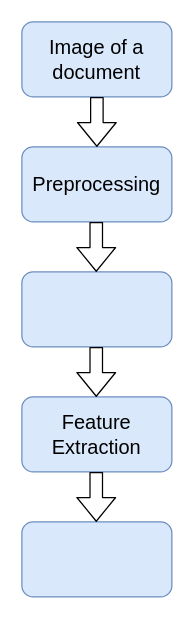
Image size: 194x619. Some labels were removed from this diagram. The shapes that lost their labels are listed below. From the top down, each one's centre as x and y in pixels, then its label:
(x=96, y=309): Segmentation
(x=96, y=559): Classification
